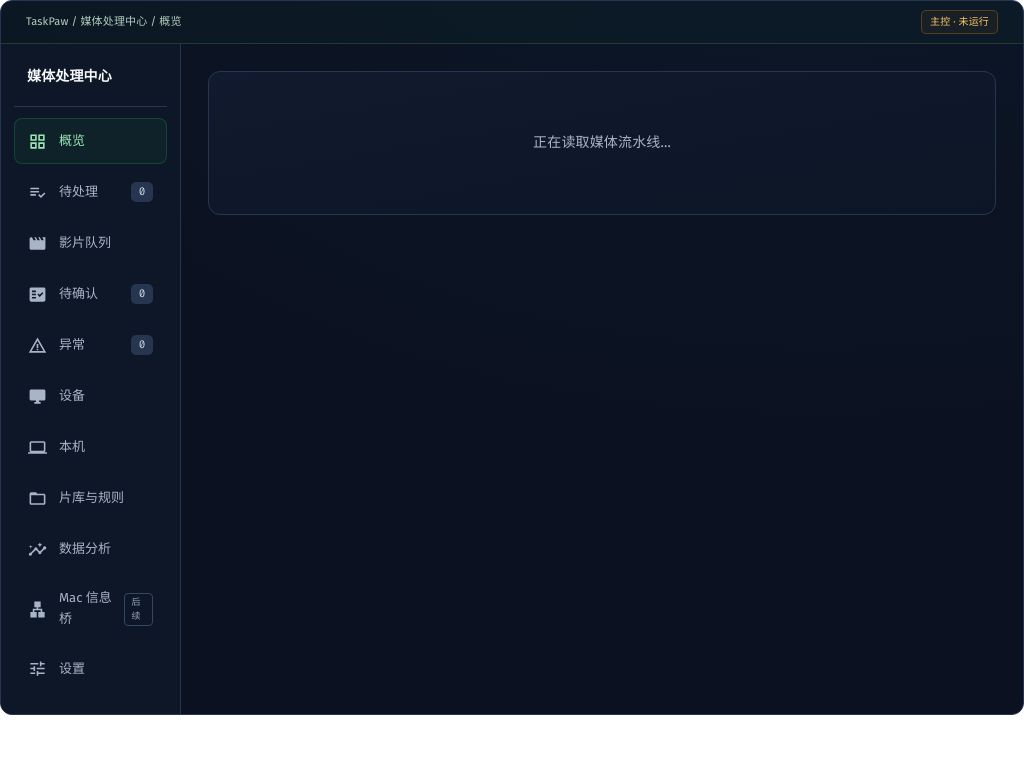
Test: contract: 影片队列 / 异常 › queue cards: the running restore, the review film's final cover and the arriving package
The image size is (1024, 767).
Step 1. Click the button "影片队列" → x=90, y=243, box [14,220,167,266]
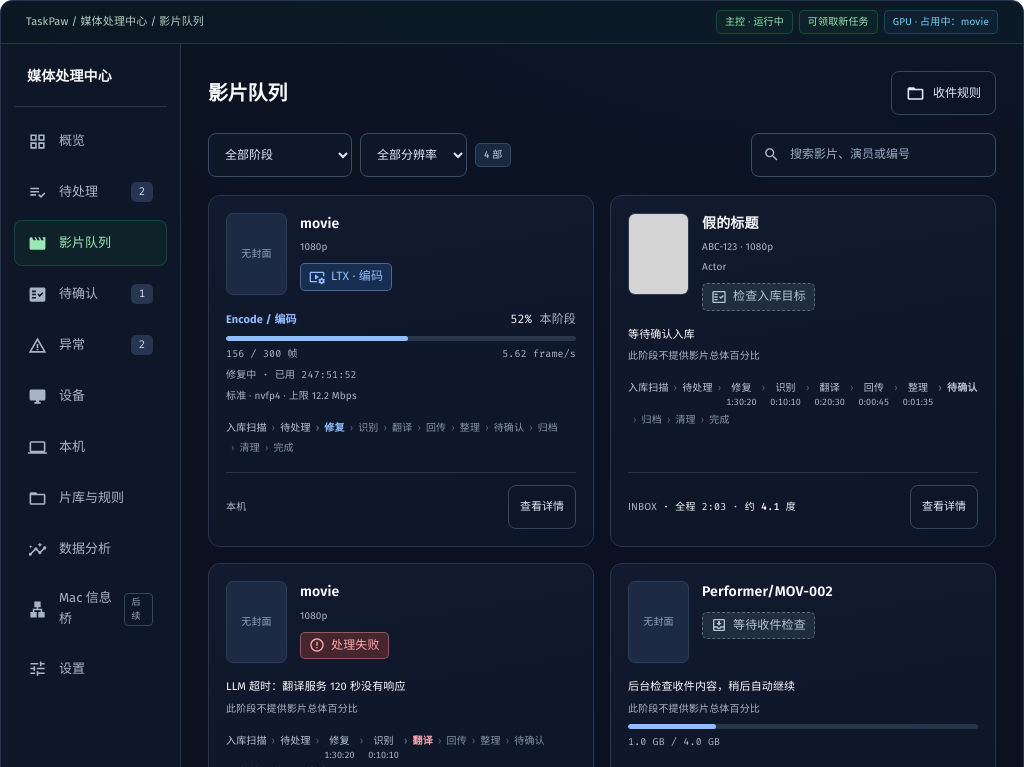
Expected: the text "LTX · 编码" is shown, [300,263,392,291]
Expected: the text "ABC-123 · 1080p" is shown, [702,239,773,255]
Expected: the text "Actor" is shown, [702,261,726,273]
